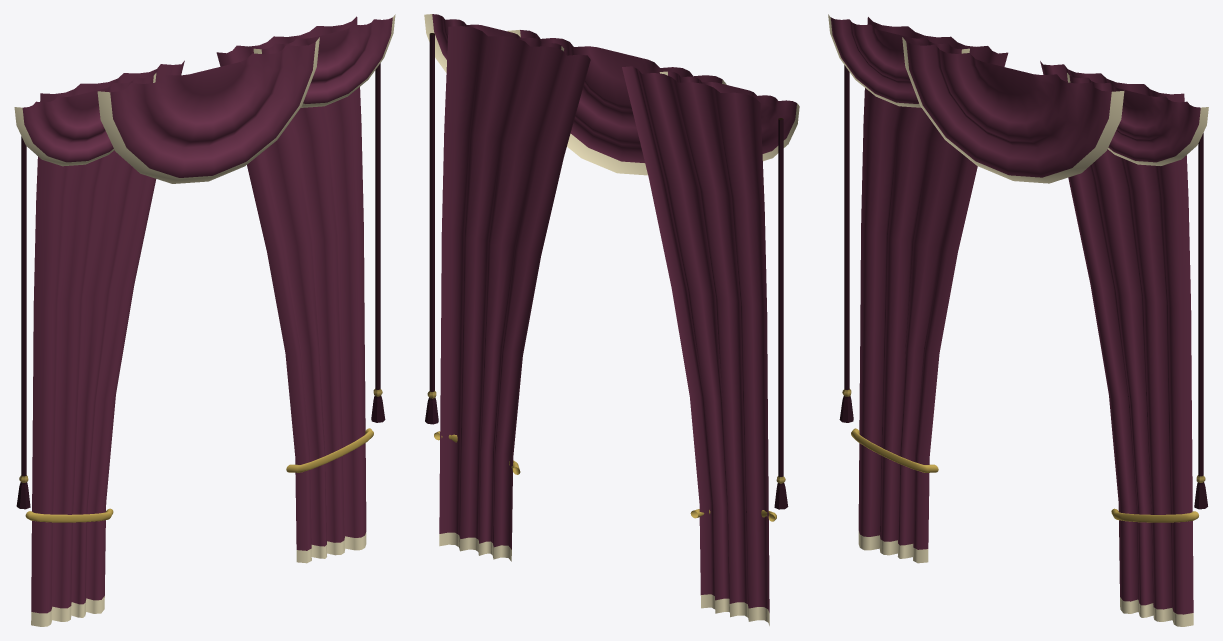
The model's file is Cortina4.fbx.
The picture shows the model from 3 angles, left to right: view 1: azimuth 30°, elevation 25°; view 2: azimuth 150°, elevation 25°; view 3: azimuth 330°, elevation 25°; orthographic projection.
Visible parts, largest first — view 1: Cortina4; view 2: Cortina4; view 3: Cortina4.
Part boxes in pixels (x1,y1,x2,y2): Cortina4: (14,14,395,626); Cortina4: (424,14,799,625); Cortina4: (828,14,1208,626).
Size of the model in its own units: 472 by 627 by 39.67.
